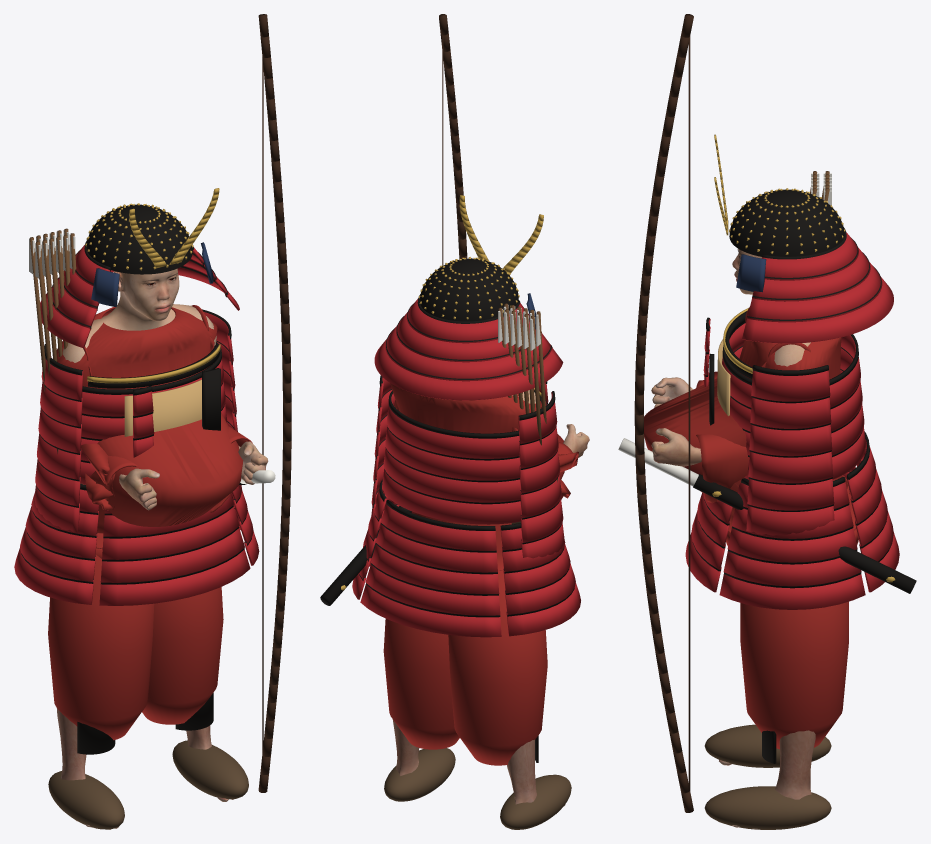
The model's file is bushi_ooyoroi.glb.
The picture shows the model from 3 angles, left to right: view 1: azimuth 30°, elevation 25°; view 2: azimuth 150°, elevation 25°; view 3: azimuth 270°, elevation 25°; orthographic projection. The views are drawn at different scales.
Parts seen in each view (by area): view 1: shitagi, hakama.R, kusazuri0, yumi, hakama.L, Human, oosode.R, kusazuri3, hachi, shikoro, dou, kutsu.L (+17 smaller); view 2: kusazuri2, dou, hakama.R, shikoro, hakama.L, kusazuri3, oosode.R, hachi, shitagi, Human, yumi, kutsu.L (+7 smaller); view 3: oosode.L, hakama.L, kusazuri1, shikoro, yumi, shitagi, hachi, dou, Human, kutsu.L, kusazuri2, kusazuri0 (+7 smaller).
Part boxes in pixels (left/top/right/bottom): shitagi: left=56, top=307, right=243, bottom=558; hakama.R: left=48, top=533, right=154, bottom=740; kusazuri0: left=99, top=495, right=250, bottom=605; yumi: left=258, top=14, right=291, bottom=792; hakama.L: left=142, top=587, right=223, bottom=724; Human: left=57, top=268, right=268, bottom=829; oosode.R: left=34, top=344, right=83, bottom=532; kusazuri3: left=14, top=484, right=99, bottom=604; hachi: left=86, top=204, right=192, bottom=274; shikoro: left=40, top=240, right=239, bottom=348; dou: left=80, top=342, right=227, bottom=484; kutsu.L: left=172, top=740, right=248, bottom=799; kusazuri2: left=360, top=500, right=501, bottom=637; dou: left=382, top=390, right=521, bottom=524; hakama.R: left=448, top=570, right=547, bottom=765; shikoro: left=374, top=294, right=563, bottom=400; hakama.L: left=383, top=619, right=459, bottom=749; kusazuri3: left=500, top=523, right=580, bottom=636; oosode.R: left=518, top=391, right=564, bottom=558; hachi: left=419, top=258, right=518, bottom=321; shitagi: left=390, top=383, right=563, bottom=570; Human: left=392, top=390, right=589, bottom=813; yumi: left=439, top=14, right=467, bottom=265; kutsu.L: left=384, top=748, right=455, bottom=801; oosode.L: left=746, top=365, right=834, bottom=535; hakama.L: left=740, top=601, right=848, bottom=749; kusazuri1: left=719, top=477, right=865, bottom=609; shikoro: left=742, top=227, right=893, bottom=343; yumi: left=634, top=14, right=693, bottom=812; shitagi: left=644, top=307, right=858, bottom=545; hachi: left=729, top=189, right=844, bottom=256; dou: left=722, top=323, right=865, bottom=479; Human: left=651, top=248, right=815, bottom=829; kutsu.L: left=704, top=786, right=831, bottom=829; kusazuri2: left=846, top=431, right=899, bottom=592; kusazuri0: left=685, top=493, right=732, bottom=592.
Size of the model in its own units: 0.628 by 2.16 by 0.7143.
15 materials, 4 textured.
